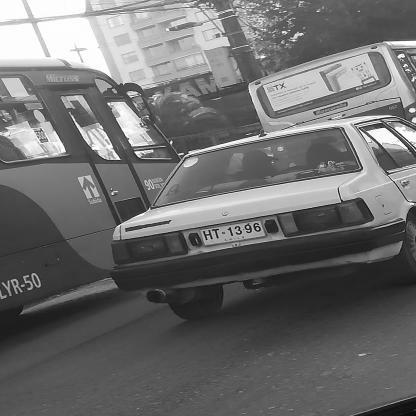Patente: (201, 220, 271, 246)
